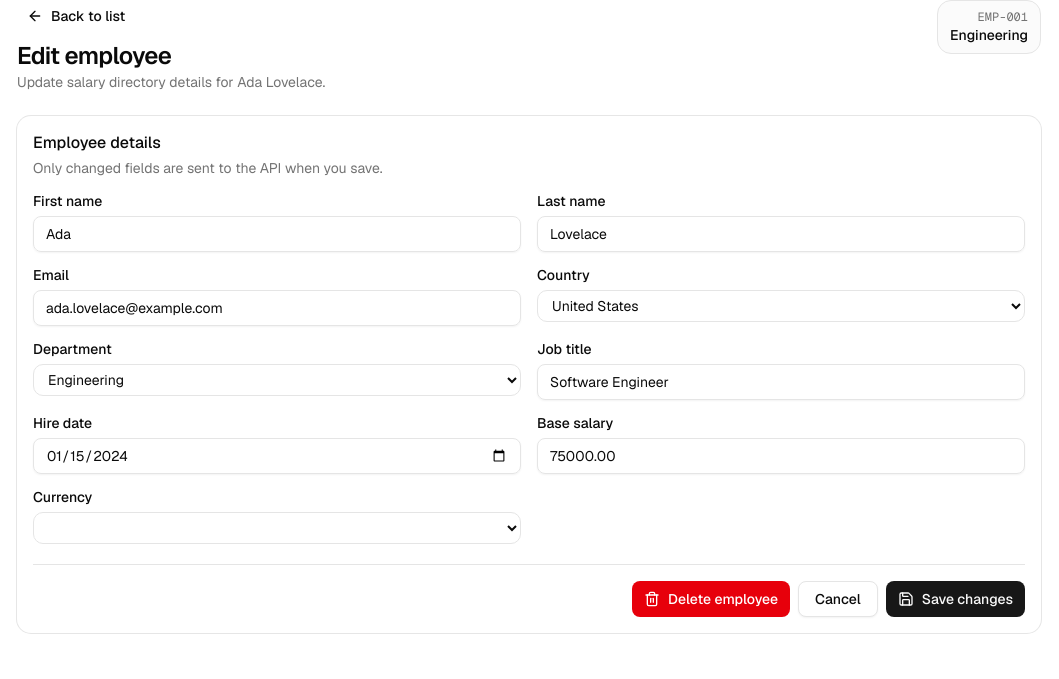
EditEmployeeClient › displays validation error for lowercase currency
Click the button "Save changes" at (955, 599), box [886, 581, 1025, 617]
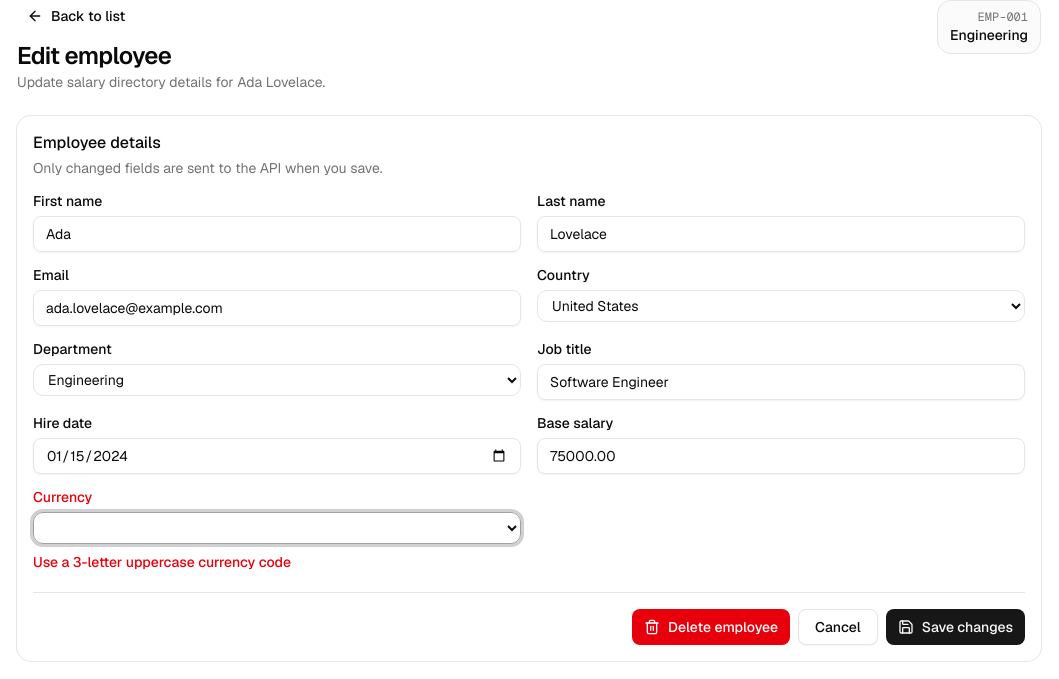
Result: the text "Use a 3-letter uppercase currency code" is shown at [33, 553, 291, 571]
